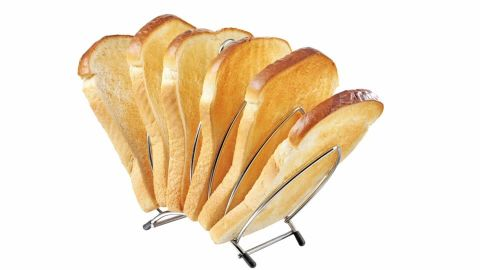slice of bread: (119, 24, 374, 244), (78, 36, 159, 212)
